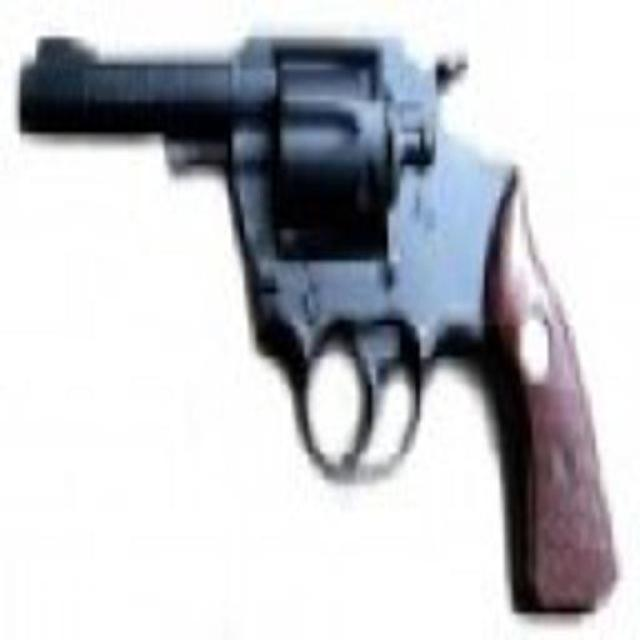pistol: (20, 31, 620, 617)
